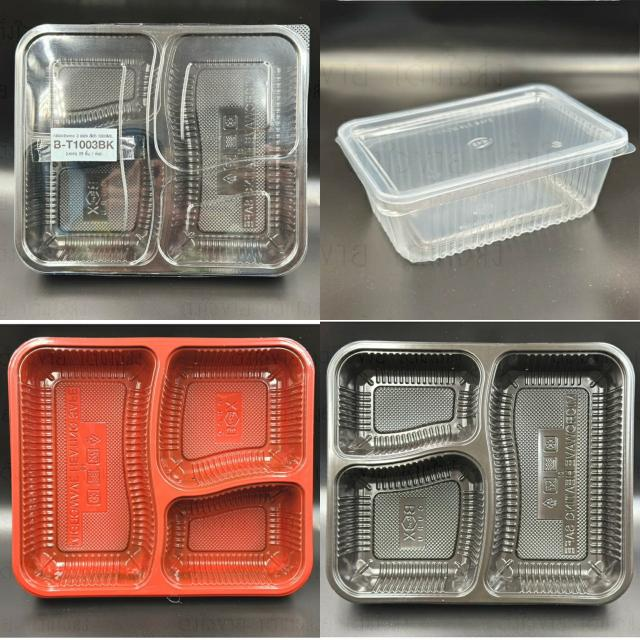Single-Use-Plastic: (326, 341, 634, 603), (9, 339, 314, 598), (15, 25, 309, 274), (336, 85, 635, 262)
